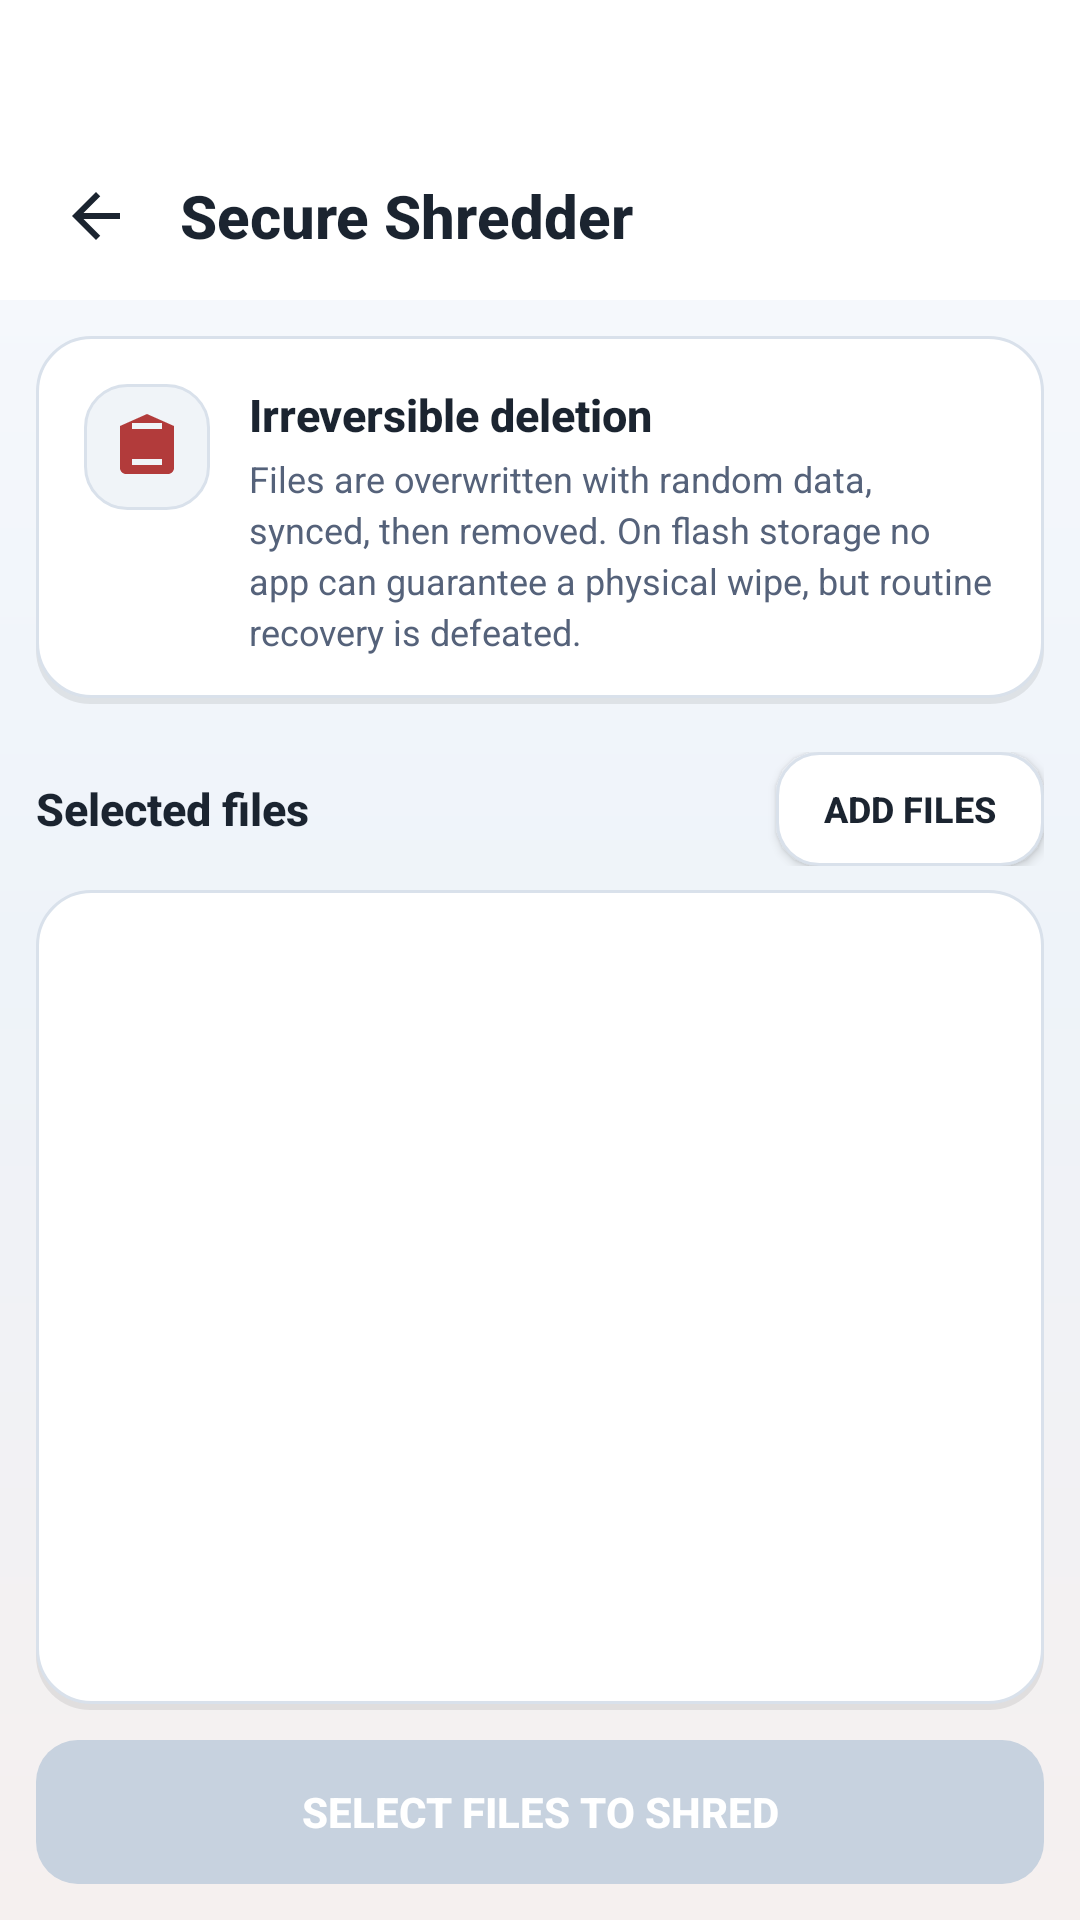

Icon click points for this 1080px×1920px phone screenshot, format [x,y]:
Back: [96,216]
